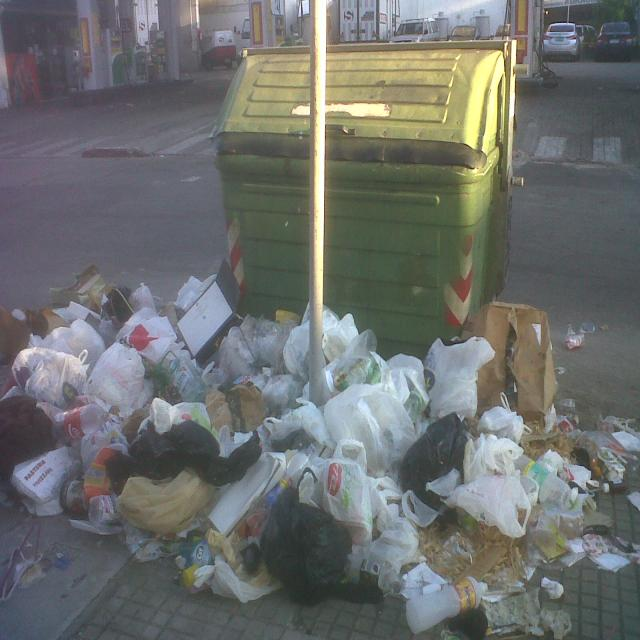garbage: (0, 271, 352, 610), (350, 294, 640, 640)
